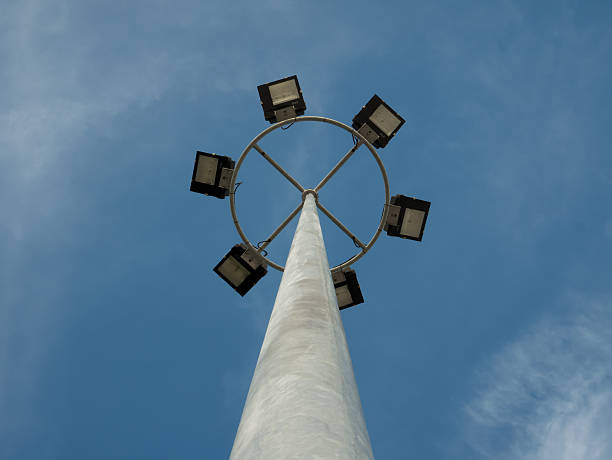light_pole: (226, 206, 380, 456)
